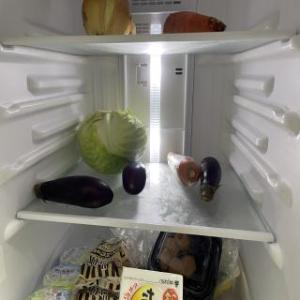cabbage: (76, 108, 148, 174)
carrot: (164, 10, 226, 34), (167, 152, 196, 186)
eggplant: (34, 176, 112, 210), (199, 156, 220, 198), (122, 161, 146, 197)
onion: (82, 0, 136, 36)
